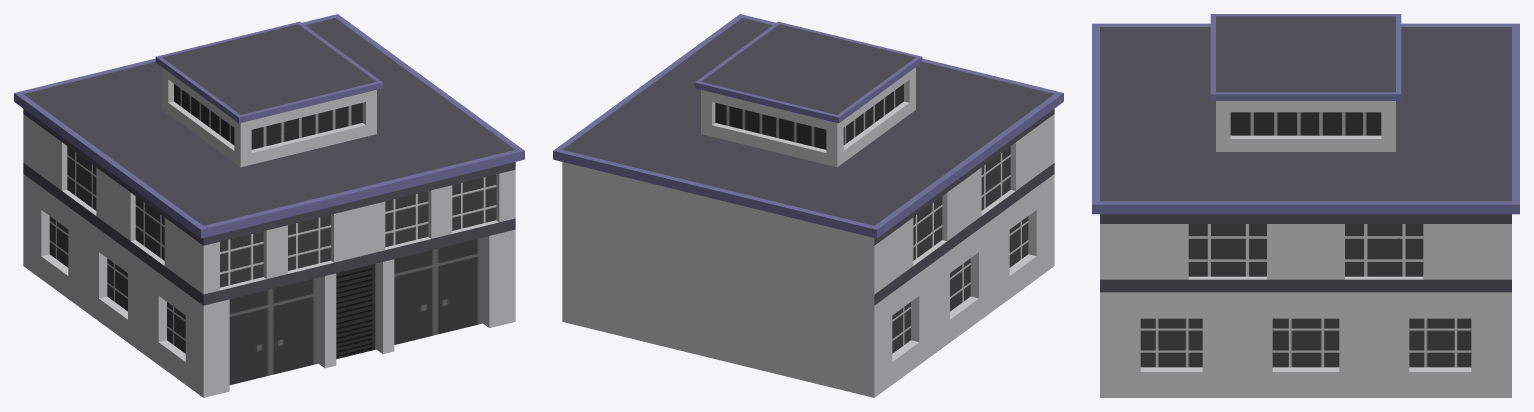
The model's file is building1a.FBX.
3 views of the same model, side by side, from view 1: azimuth 30°, elevation 25°; view 2: azimuth 150°, elevation 25°; view 3: azimuth 270°, elevation 25° (orthographic). The views are drawn at different scales.
Visible parts, largest first — view 1: building1a; view 2: building1a; view 3: building1a.
Boxes of the visible parts, left/top/right/bottom form: building1a: left=14, top=14, right=524, bottom=397; building1a: left=553, top=14, right=1063, bottom=397; building1a: left=1092, top=14, right=1519, bottom=397.
Bounding box in the file's own units: 20.76 × 13.74 × 20.76.
